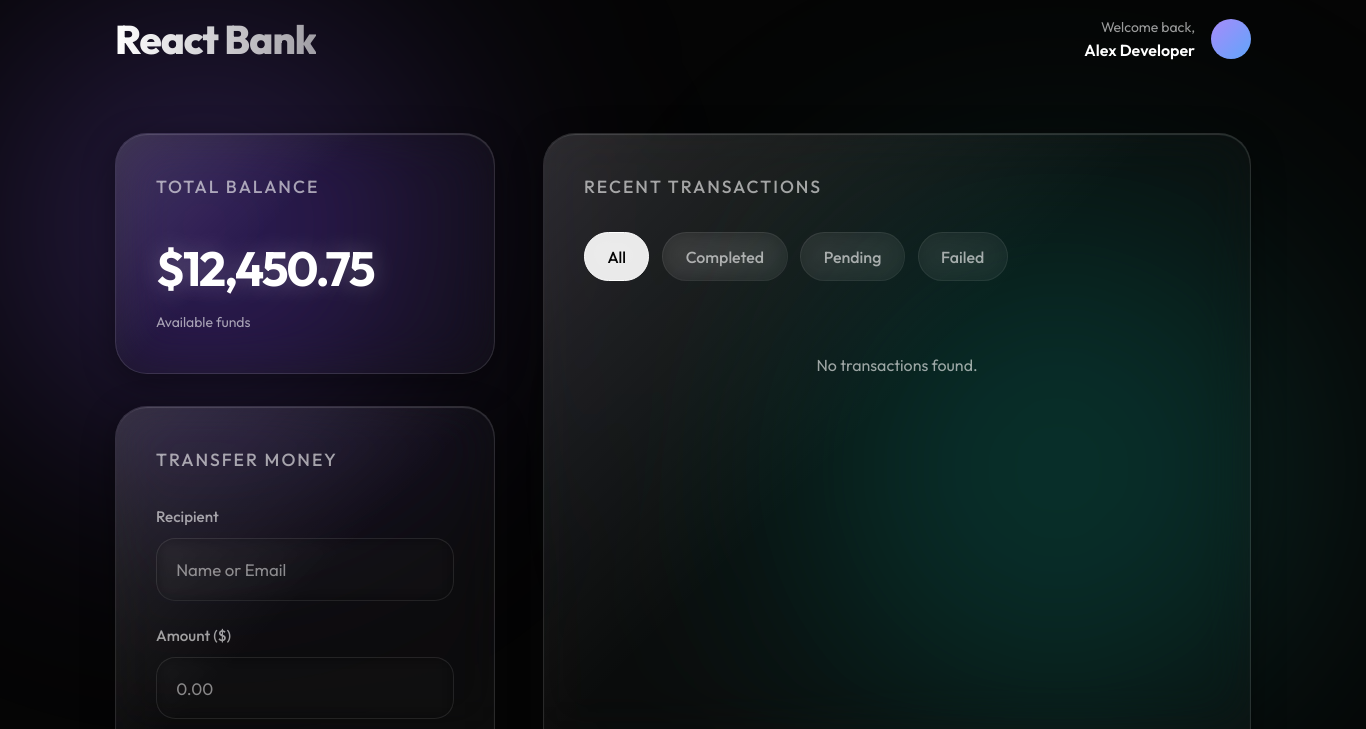
User Journey: Transfer Validation › Scenario: Insufficient funds
Expected: the heading "Total Balance" is shown, 156,175 -> 319,198
Fill in the form with invalid Insufficient funds
Type "Jane Doe" into the field with placeholder "Name or Email" at (305, 569), box 156,538 -> 454,601
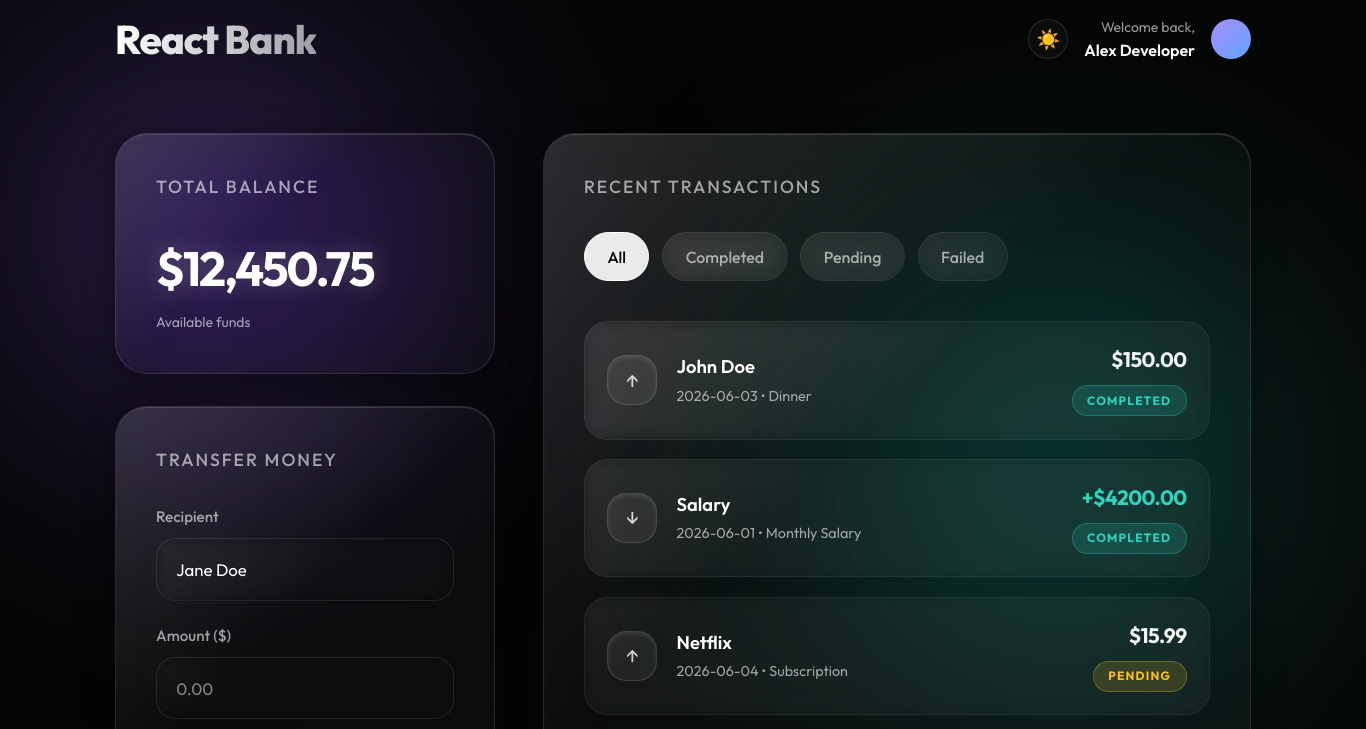
Type "999999.75" into the number field with placeholder "0.00" at (305, 688), box 156,657 -> 454,719
(page scrolled)
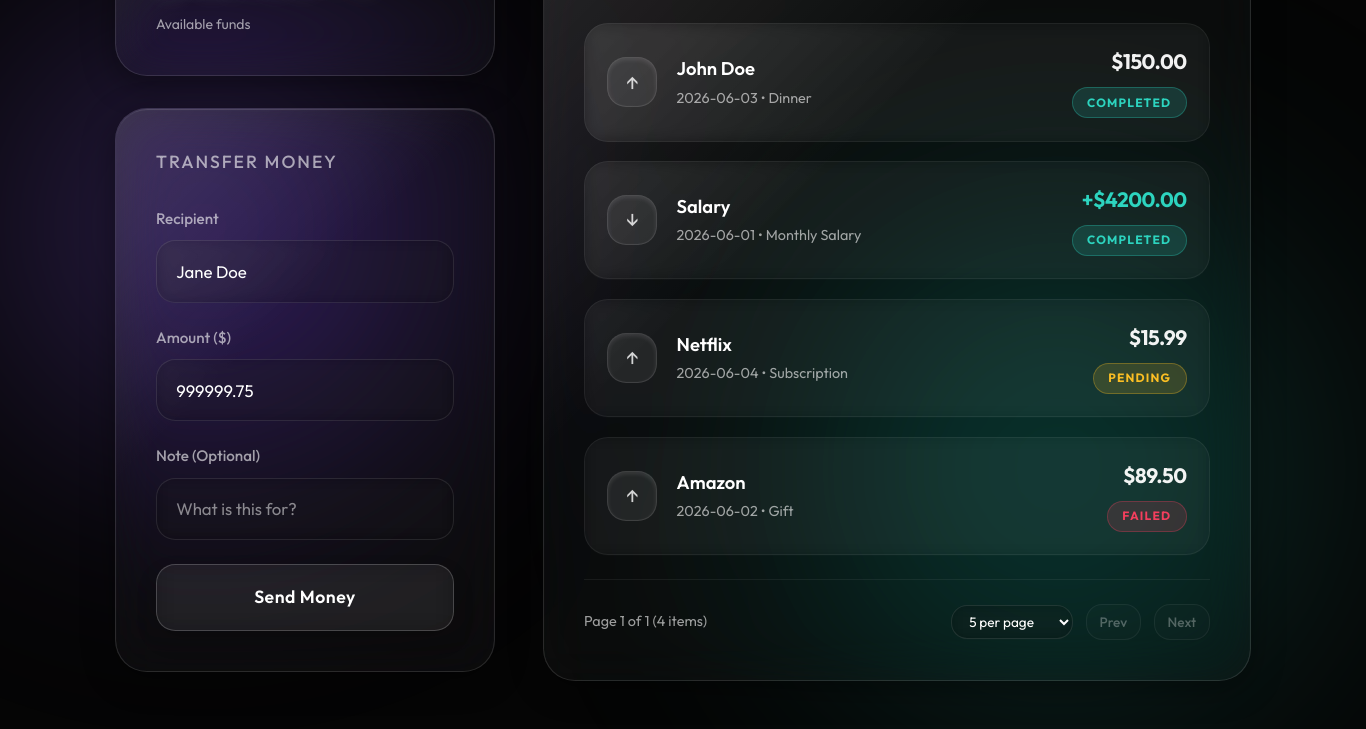
Type "Test transfer with Insufficient funds" into the field with placeholder "What is this for?" at (305, 509), box 156,478 -> 454,540
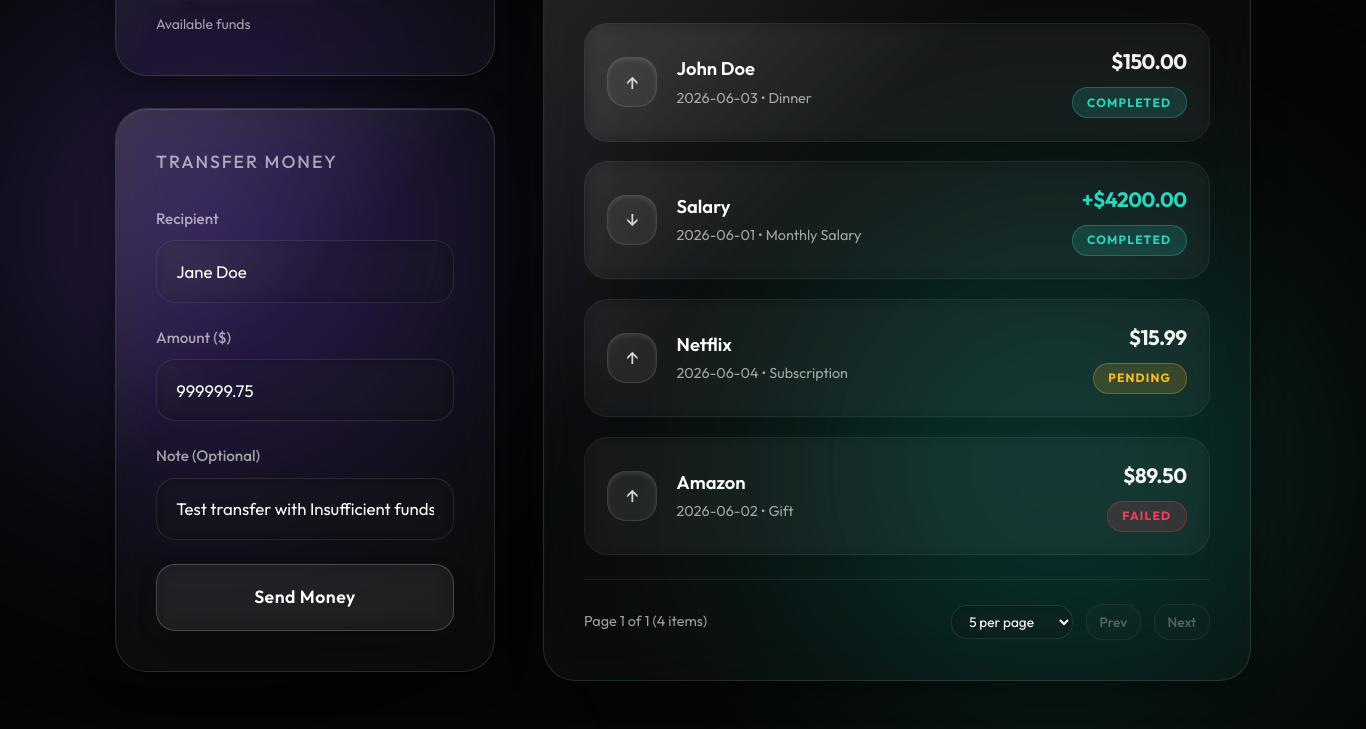
Simulate form submission
Click the button "Send Money" at (305, 598), box 156,564 -> 454,631
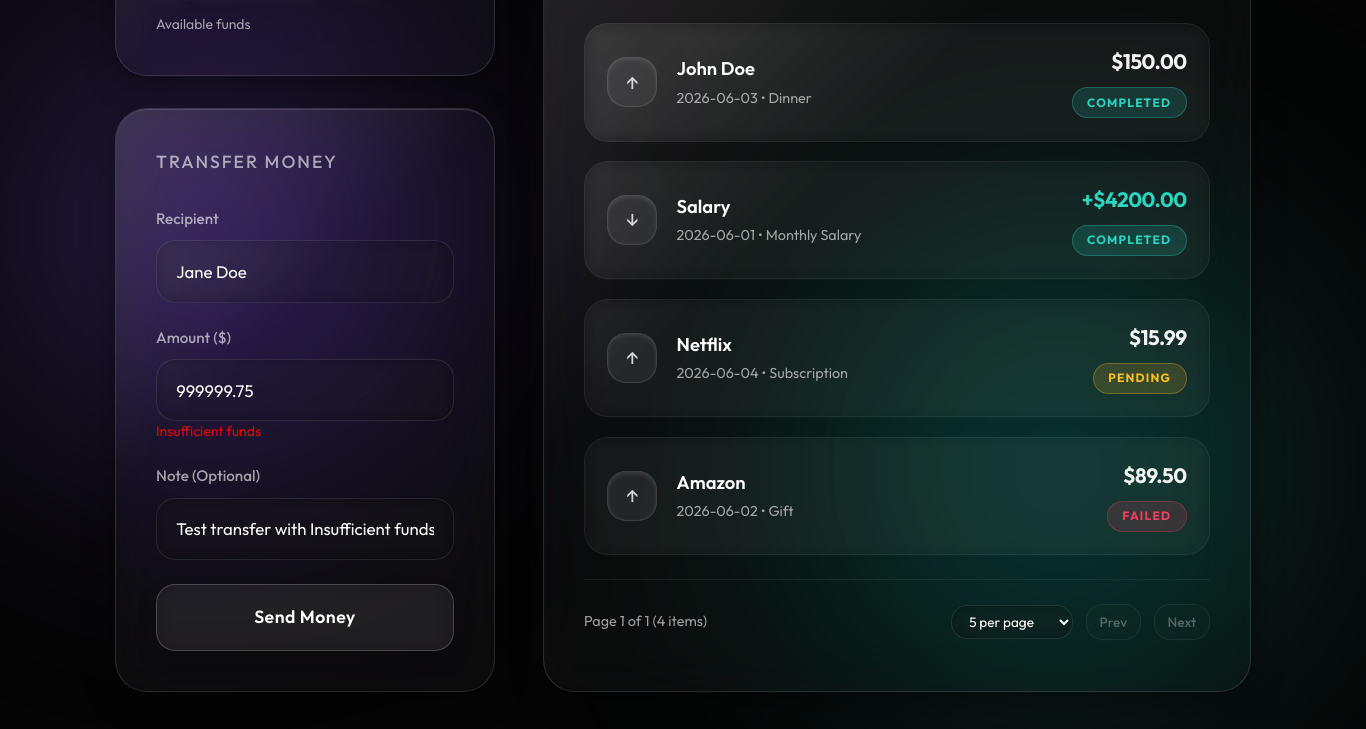
Expected: the text "Insufficient funds" is shown, 156,422 -> 261,440
